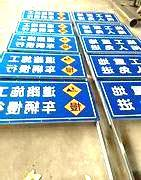sign: (1, 81, 95, 119), (2, 51, 85, 78), (104, 81, 141, 114), (11, 34, 76, 51), (93, 53, 141, 75), (84, 37, 141, 50), (17, 21, 73, 34), (23, 9, 68, 21), (79, 24, 130, 34), (74, 10, 119, 21)
